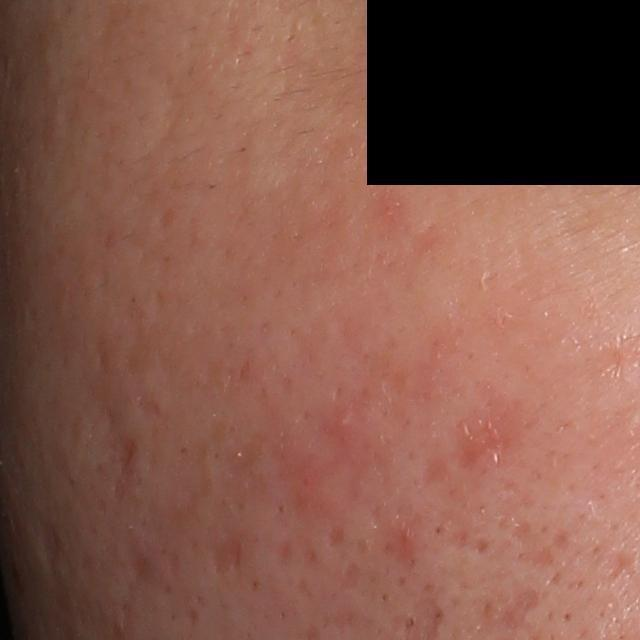atrophic_scar: (507, 518, 572, 566), (498, 585, 538, 630), (34, 521, 63, 566), (212, 537, 243, 576), (604, 553, 636, 581)
